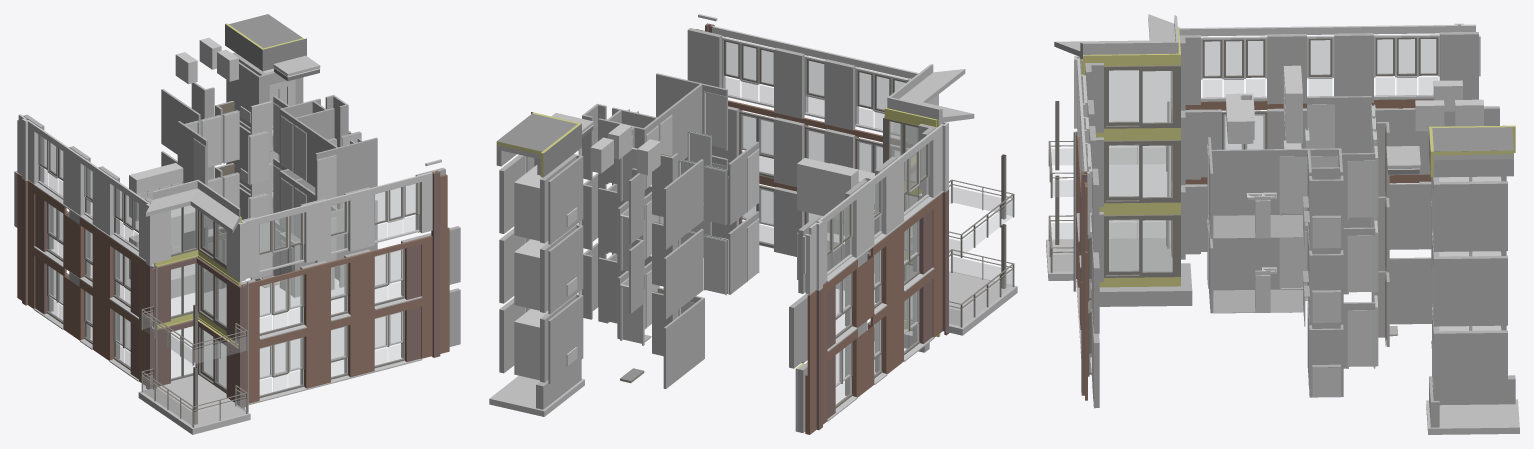
3 views of the same model, side by side, from view 1: azimuth 30°, elevation 25°; view 2: azimuth 150°, elevation 25°; view 3: azimuth 270°, elevation 25° (orthographic). The views are drawn at different scales.
Bounding box in the file's own units: 14.74 × 11.44 × 17.27.
